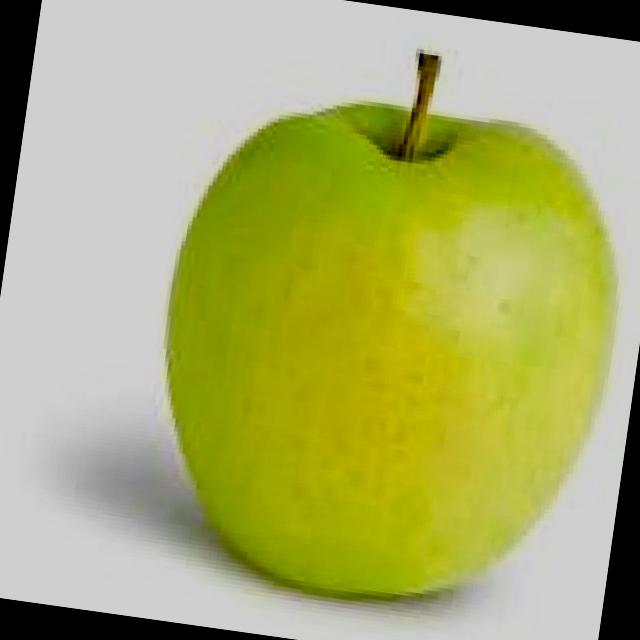Apple: (82, 8, 640, 640)
